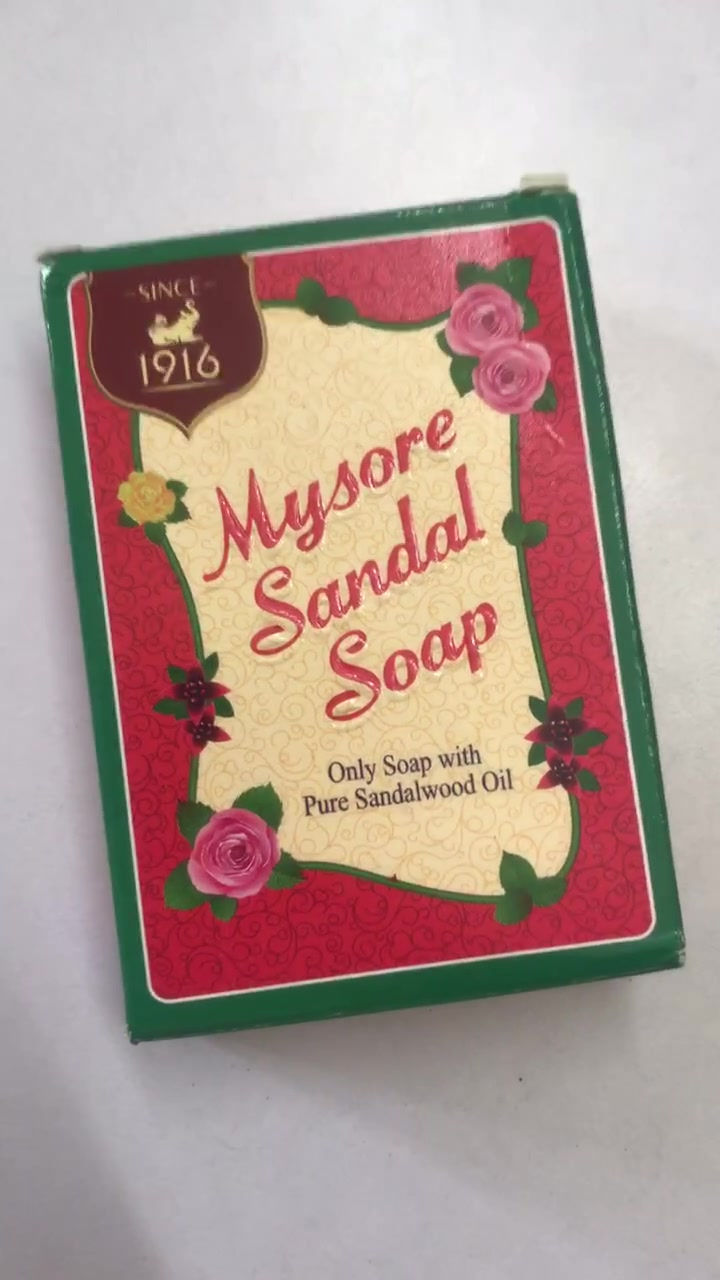mysore sandal soap: (39, 191, 678, 1049)
